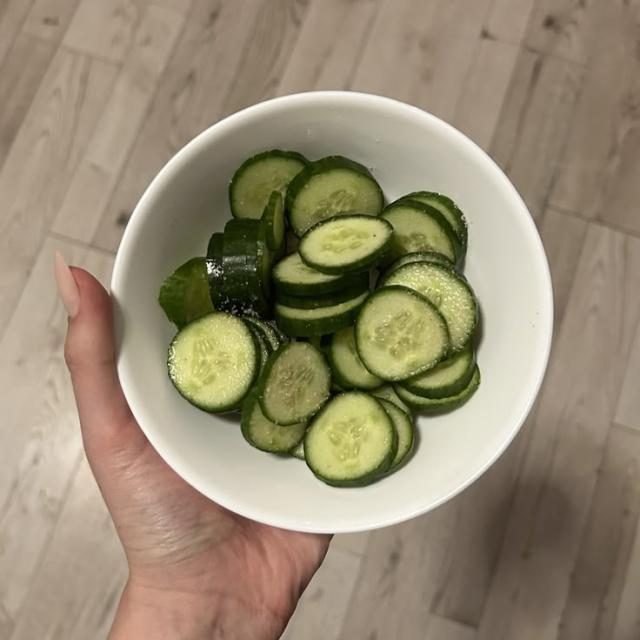cucumber sliced: (168, 312, 259, 412), (356, 286, 449, 380), (305, 391, 397, 486), (383, 263, 477, 353), (286, 156, 383, 236), (260, 343, 330, 425), (299, 216, 393, 274), (230, 150, 307, 218), (381, 201, 460, 262), (222, 220, 269, 315), (241, 390, 307, 453), (274, 292, 368, 336), (272, 253, 368, 296), (401, 342, 474, 398), (394, 365, 480, 412), (400, 191, 467, 251), (159, 257, 213, 329), (328, 327, 382, 390), (379, 251, 454, 284), (379, 398, 413, 469), (276, 283, 367, 309), (245, 318, 274, 372), (261, 191, 285, 251), (246, 317, 288, 351), (370, 384, 411, 417), (207, 233, 224, 309), (290, 439, 305, 460)
